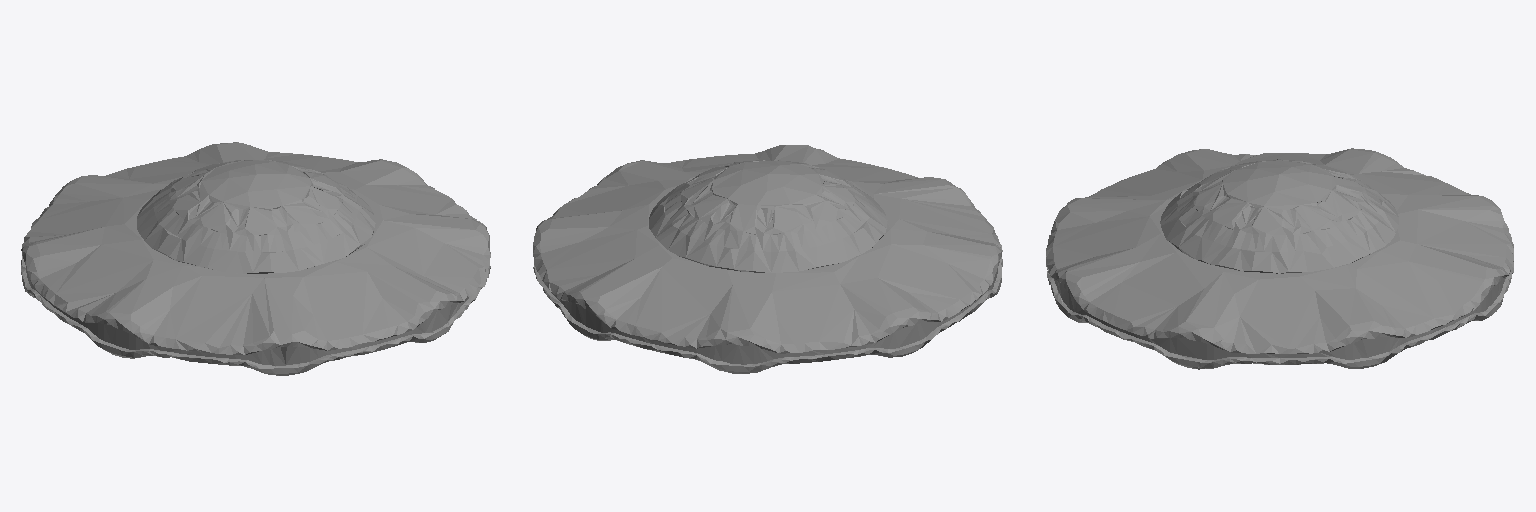
File: frame_071.obj
3 renders of one model, left to right at view 1: azimuth 30°, elevation 25°; view 2: azimuth 150°, elevation 25°; view 3: azimuth 270°, elevation 25°, orthographic.
Parts seen in each view (by area): view 1: 13884_UFO_Saucer_v1_l2; view 2: 13884_UFO_Saucer_v1_l2; view 3: 13884_UFO_Saucer_v1_l2.
Boxes of the visible parts, x1,y1,x2,y2 form: 13884_UFO_Saucer_v1_l2: [21, 142, 490, 375]; 13884_UFO_Saucer_v1_l2: [533, 145, 1002, 373]; 13884_UFO_Saucer_v1_l2: [1046, 148, 1513, 369].
Size of the model in its own units: 12.69 by 4.88 by 12.7.